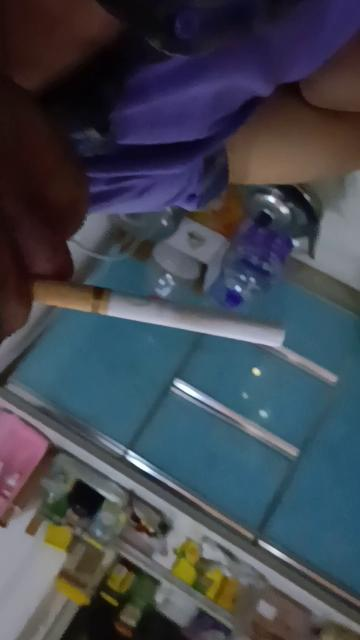Cigarette: (31, 280, 286, 348)
